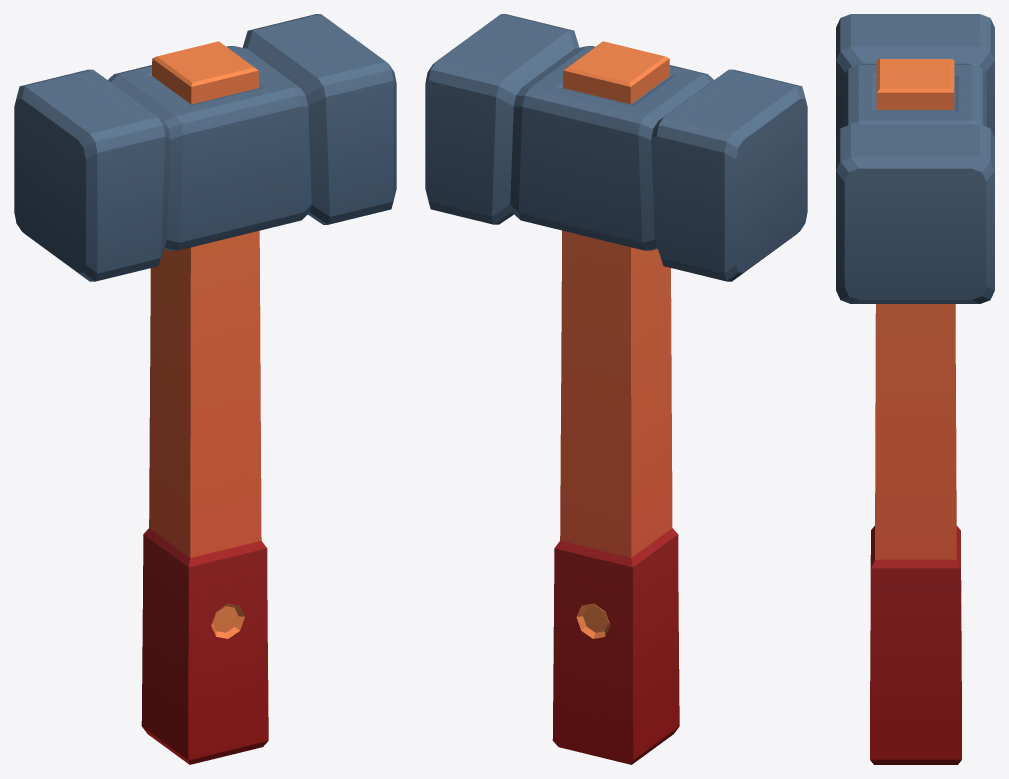
Rendered from Hammer.glb.
3 views of the same model, side by side, from view 1: azimuth 30°, elevation 25°; view 2: azimuth 150°, elevation 25°; view 3: azimuth 270°, elevation 25° (orthographic).
Parts seen in each view (by area): view 1: Hammer; view 2: Hammer; view 3: Hammer.
Part boxes in pixels (<box>): Hammer: <box>14,14,396,764</box>; Hammer: <box>425,14,807,764</box>; Hammer: <box>836,14,994,764</box>.
Bounding box in the file's own units: 0.3181 × 0.6638 × 0.1419.
1 material, 1 textured.
